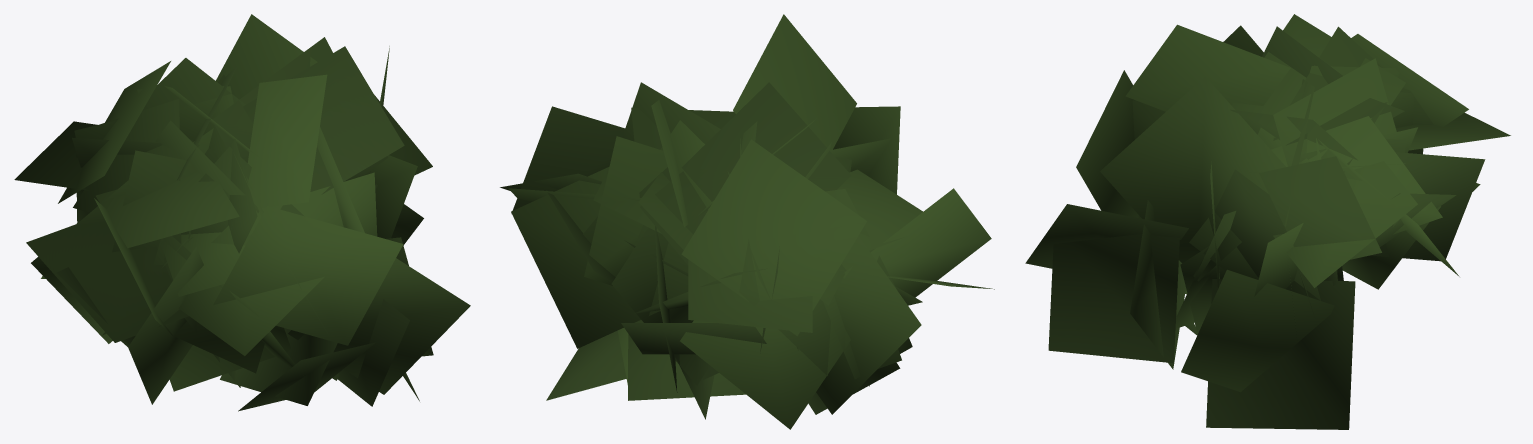
Rendered from SM_Krzak_2.glb.
3 renders of one model, left to right at view 1: azimuth 30°, elevation 25°; view 2: azimuth 150°, elevation 25°; view 3: azimuth 270°, elevation 25°, orthographic. The views are drawn at different scales.
Parts seen in each view (by area): view 1: SM_Krzak_2; view 2: SM_Krzak_2; view 3: SM_Krzak_2.
Part boxes in pixels (left/top/right/bottom): SM_Krzak_2: left=14, top=14, right=470, bottom=411; SM_Krzak_2: left=500, top=14, right=994, bottom=429; SM_Krzak_2: left=1025, top=14, right=1510, bottom=429.
Bounding box in the file's own units: 4.98 × 4.06 × 5.15.
